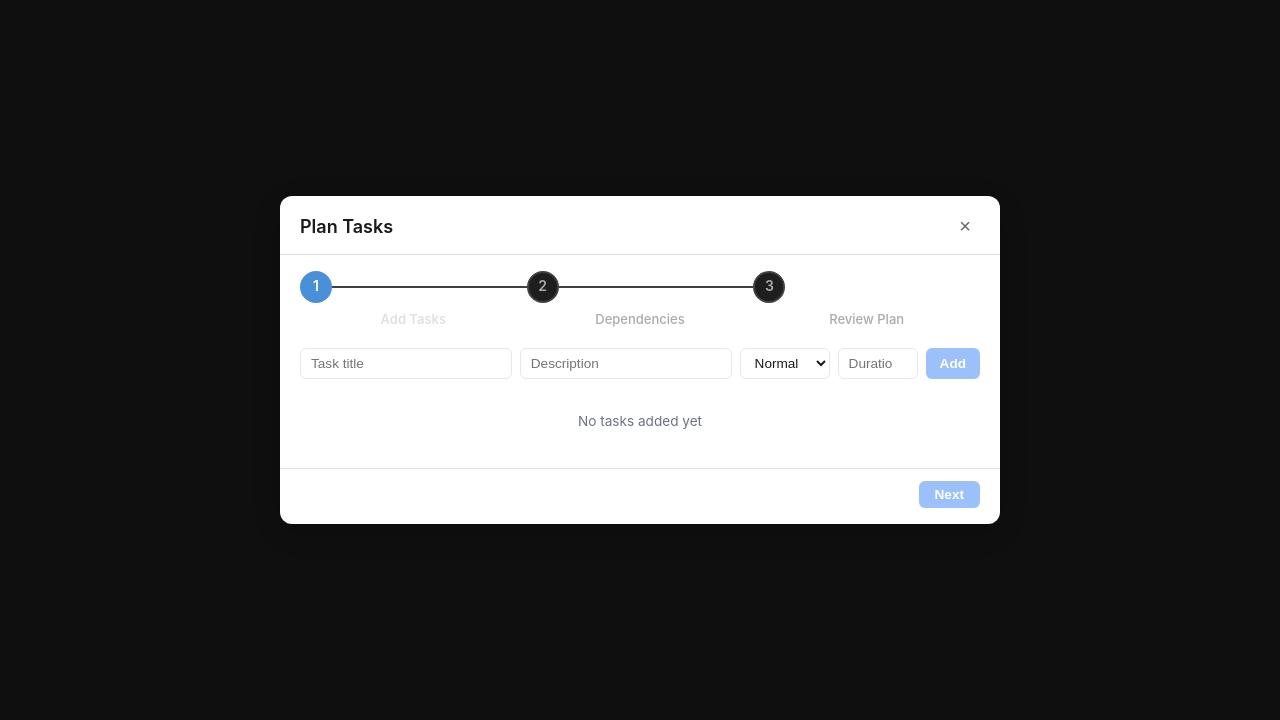
Test: PlannerWizard › step 1 — add tasks › can fill in and add a task
Type "Build Button" into the field with placeholder "Task title" at (406, 363), box 300,348 -> 512,379
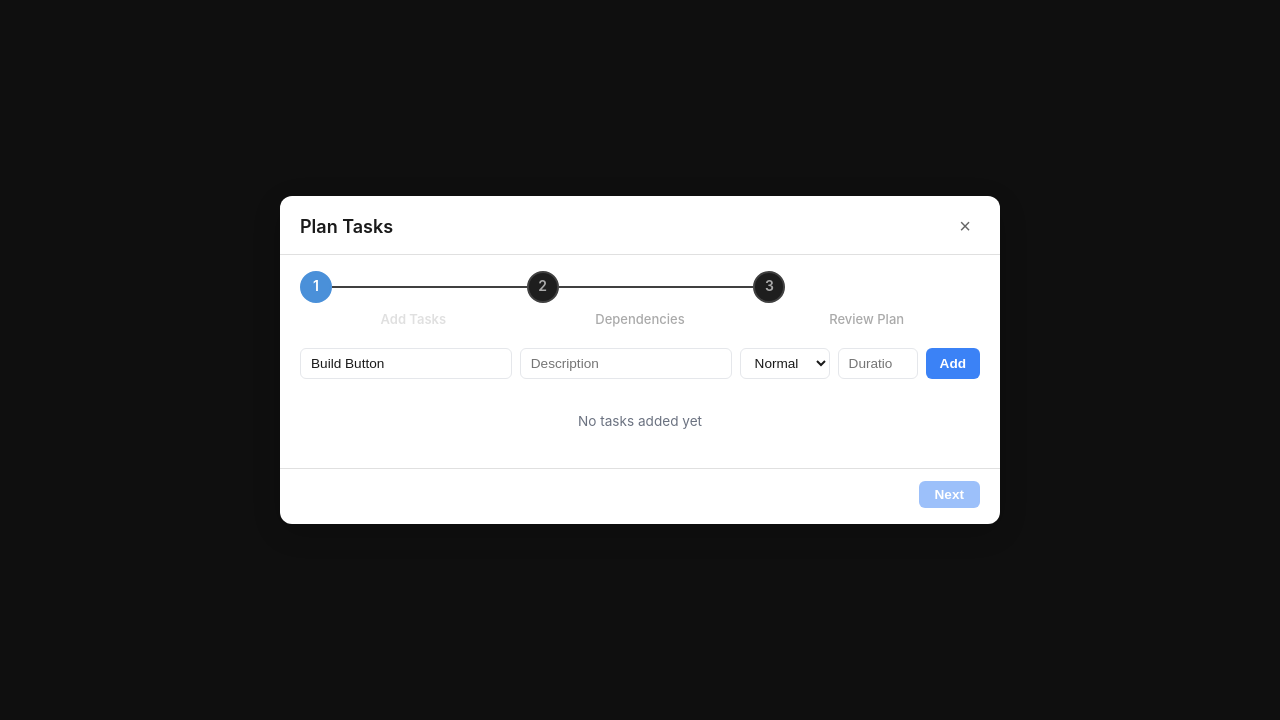
Click the button "Add" at (953, 363), box 926,348 -> 980,379
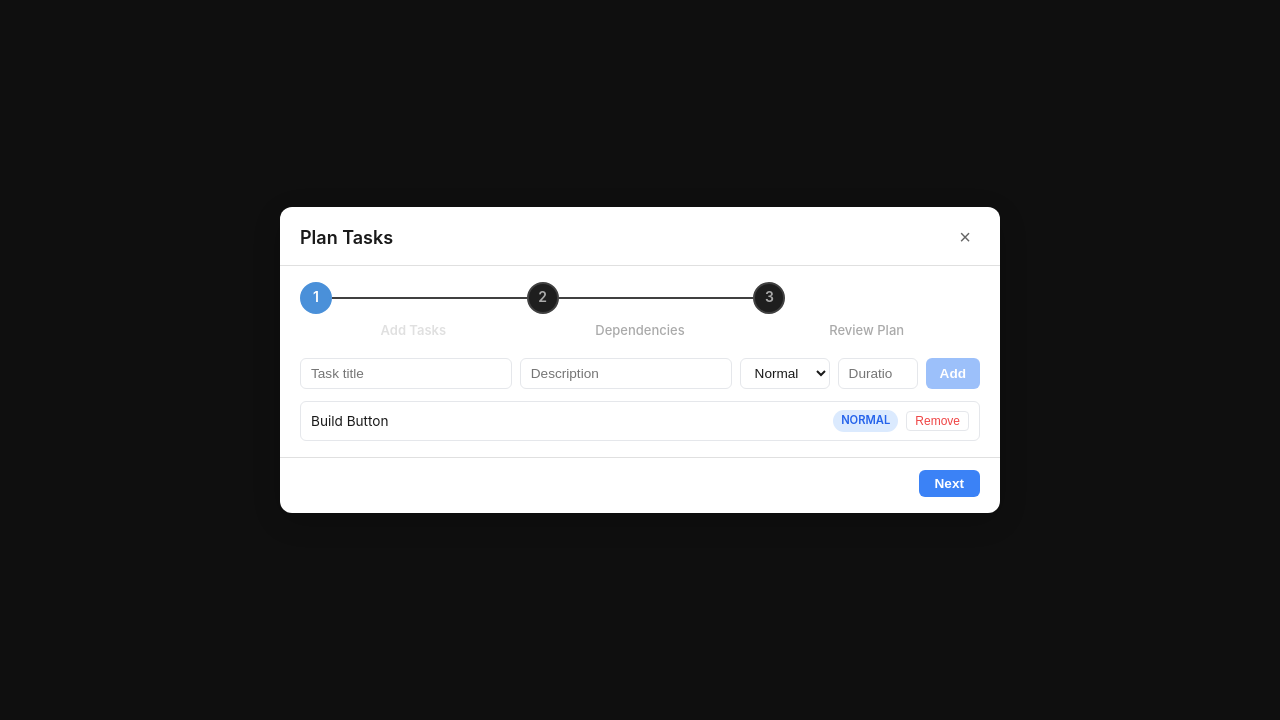
Result: the text "Build Button" is shown at 311,413 -> 388,429
